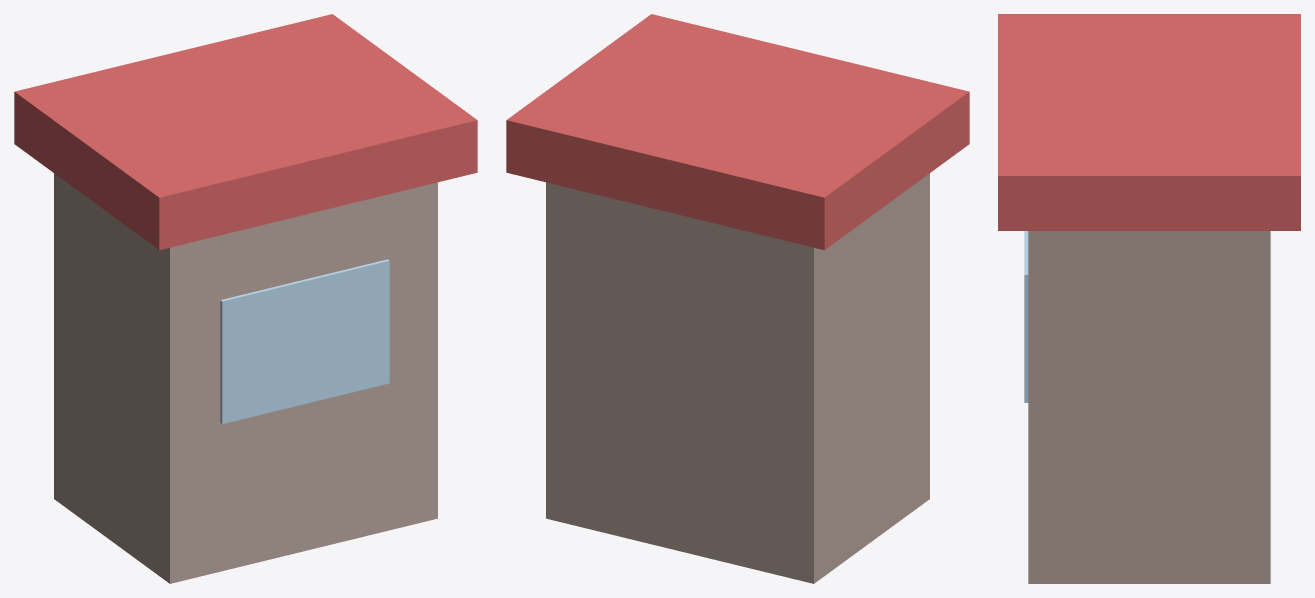
Rendered from ticket_booth-1-.glb.
3 renders of one model, left to right at view 1: azimuth 30°, elevation 25°; view 2: azimuth 150°, elevation 25°; view 3: azimuth 270°, elevation 25°, orthographic. The views are drawn at different scales.
Bounding box in the file's own units: 0.6196 × 0.75 × 0.4891.
